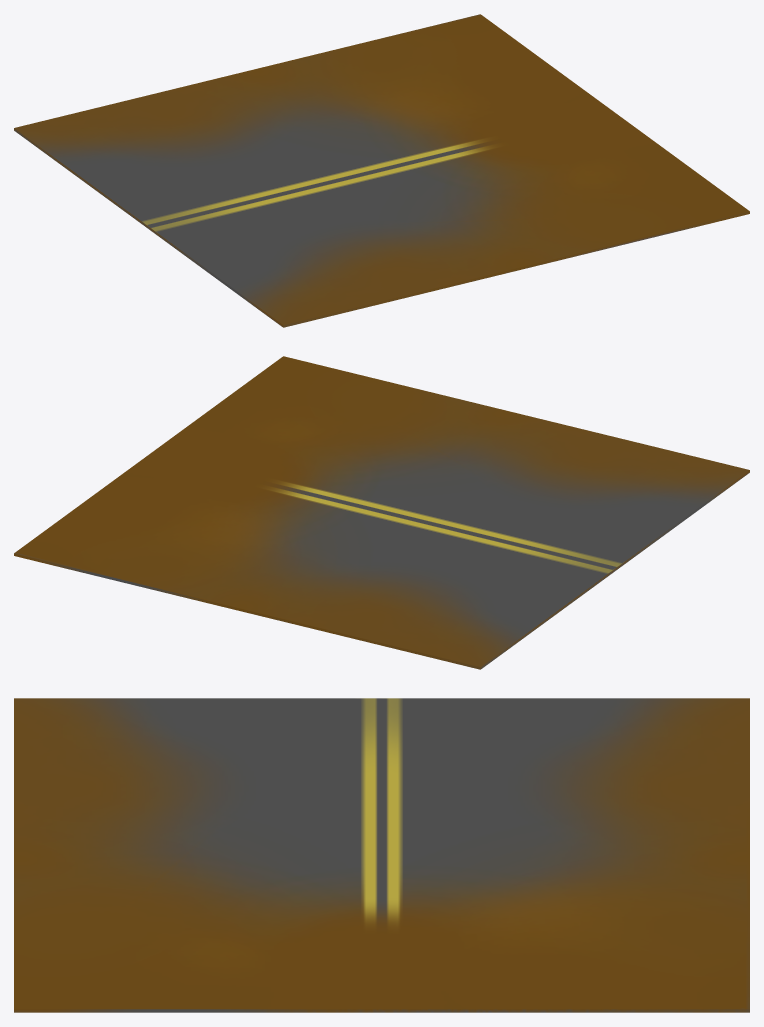
The model's file is tarmac2mud.glb.
3 views of the same model, one above another, from view 1: azimuth 30°, elevation 25°; view 2: azimuth 150°, elevation 25°; view 3: azimuth 270°, elevation 25° (orthographic). The views are drawn at different scales.
Parts seen in each view (by area): view 1: Plane.040; view 2: Plane.040; view 3: Plane.040.
Boxes of the visible parts, x1=… form: Plane.040: x1=14, y1=14, x2=749, y2=327; Plane.040: x1=14, y1=356, x2=749, y2=669; Plane.040: x1=14, y1=698, x2=749, y2=1012.
Bounding box in the file's own units: 15 × 0.0792 × 15.
